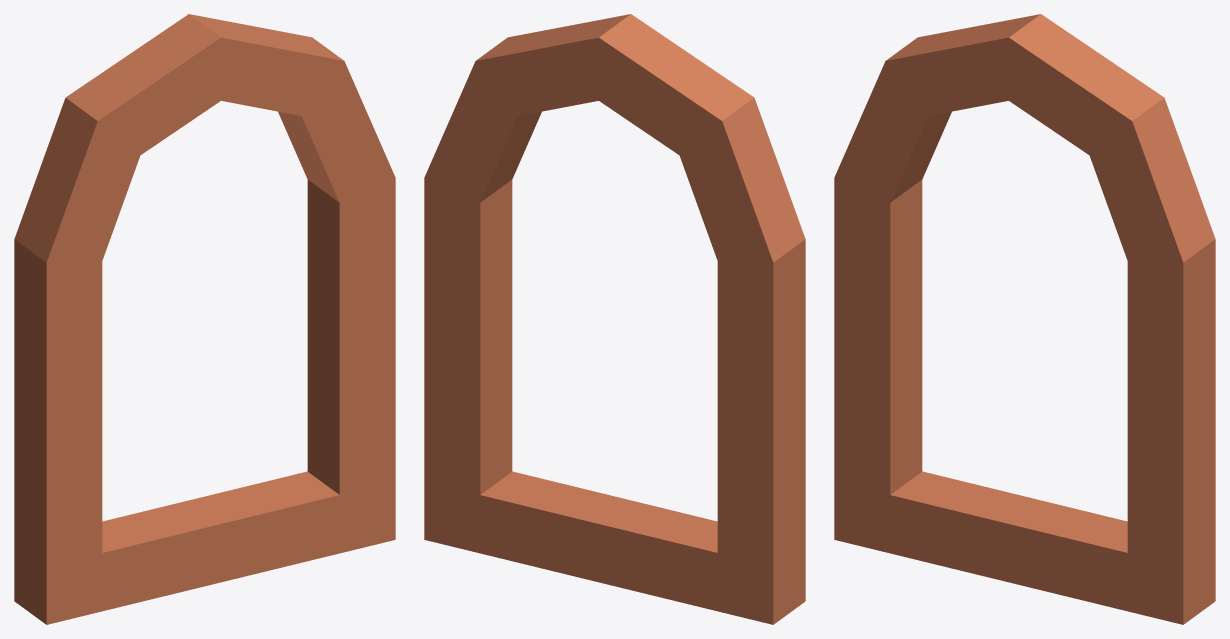
The model's file is window-brown-round-wide.obj.
3 renders of one model, left to right at view 1: azimuth 30°, elevation 25°; view 2: azimuth 150°, elevation 25°; view 3: azimuth 330°, elevation 25°, orthographic.
Size of the model in its own units: 0.3125 by 0.4663 by 0.05.
